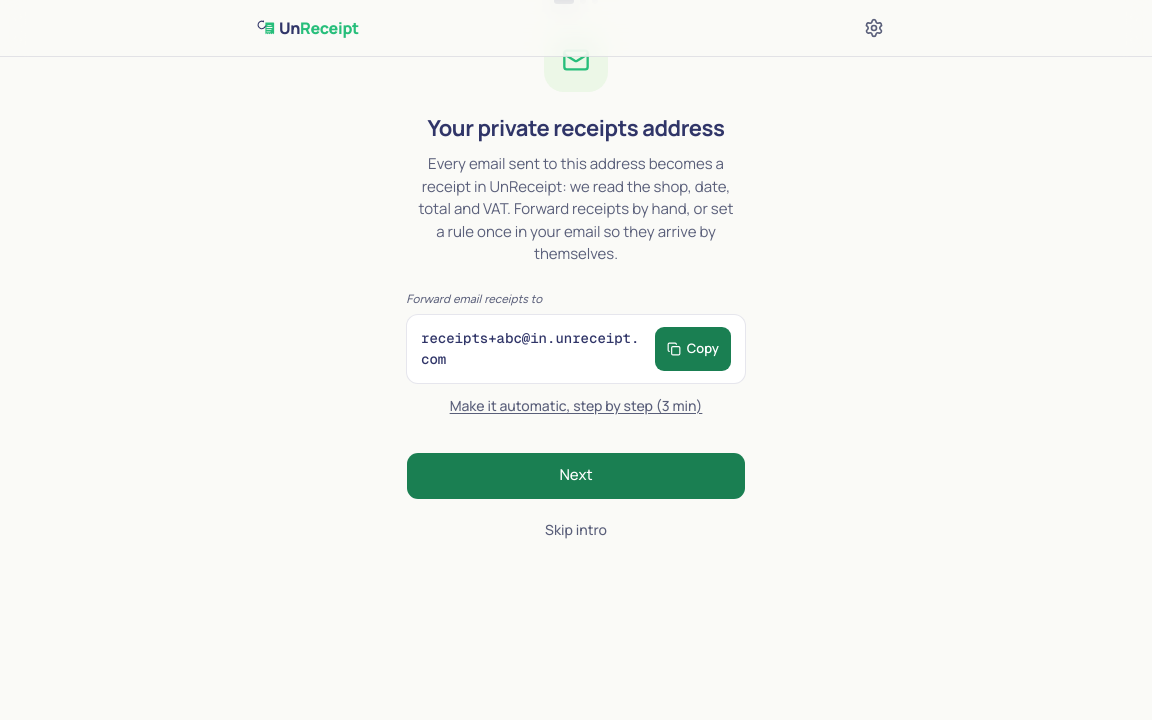
first-run onboarding › can be skipped from the first screen
(page scrolled)
Click the button "Skip intro": x=576, y=530 [406, 508, 746, 552]
(page scrolled)
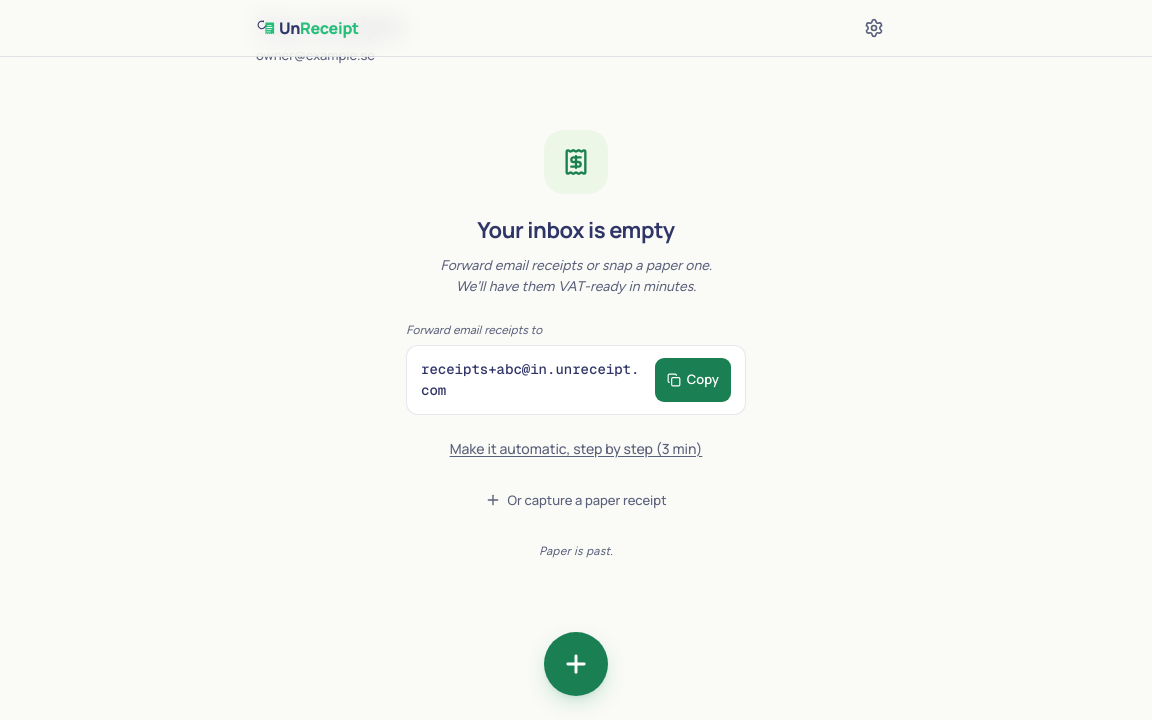
Check: the heading "Your inbox is empty" is shown, box [477, 214, 675, 246]
